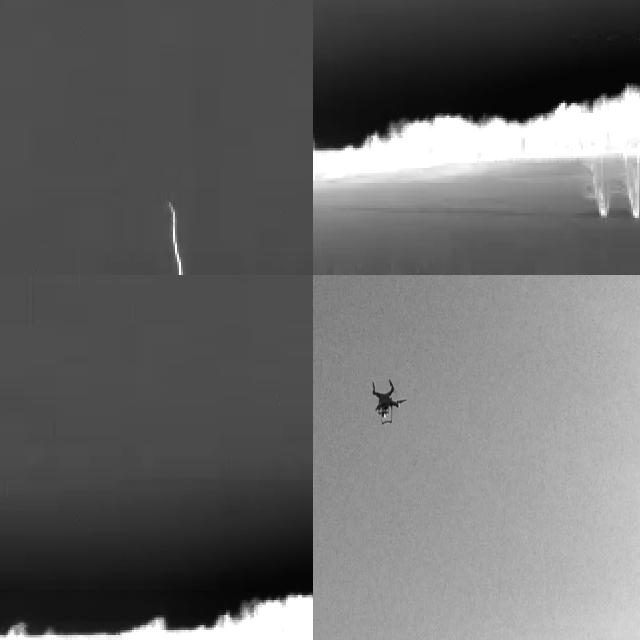0: (629, 30, 640, 55)
drone: (368, 374, 404, 426)
